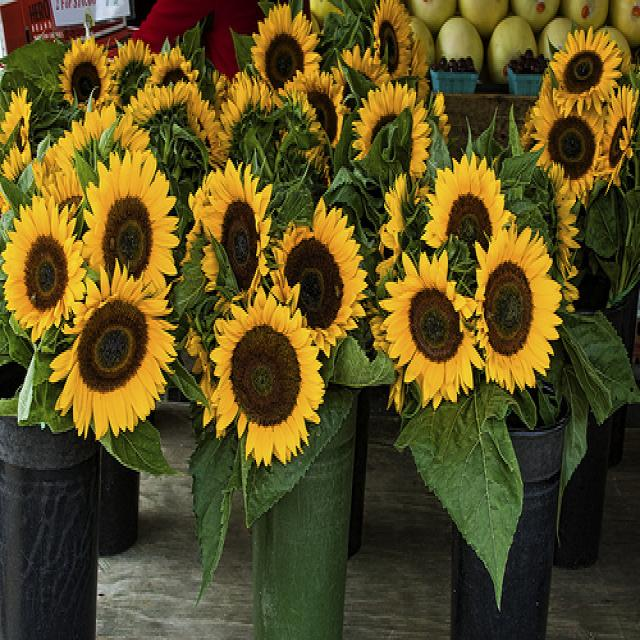sunflower: (211, 291, 328, 473), (54, 267, 174, 441), (379, 252, 477, 418), (469, 229, 564, 395), (88, 144, 180, 300), (274, 206, 366, 338), (4, 197, 87, 343), (423, 149, 517, 277), (198, 163, 276, 311), (354, 77, 433, 197), (252, 3, 320, 105), (553, 22, 626, 112), (534, 105, 604, 195), (58, 32, 115, 116), (371, 2, 416, 88)
